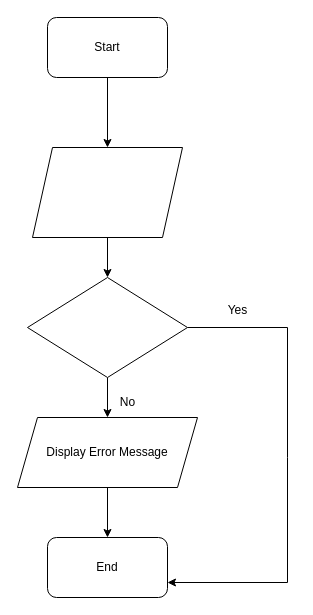
The diagram is 313 pixels wide and 615 high, and some of its shapes have lost their labels. Here are the shapes that lost their labels. From the top down, the centre of each, then its label:
At pixel 107 192: "Enter registration details".
At pixel 107 327: "is input valid".
